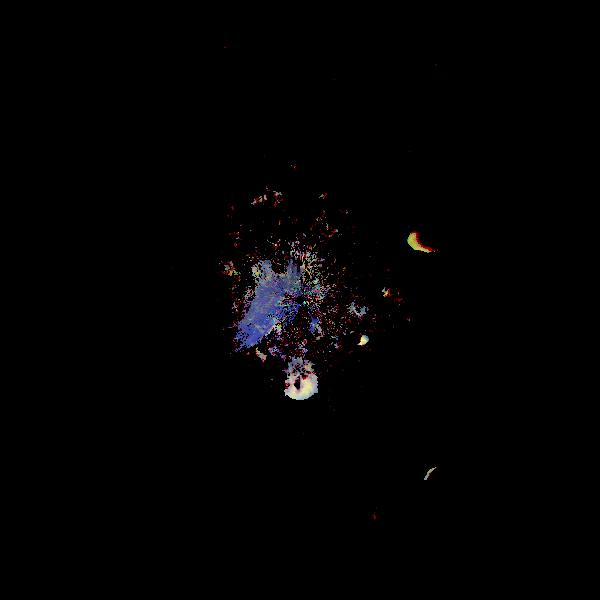roost: (398, 196, 464, 262), (269, 349, 329, 409), (382, 269, 424, 311), (423, 462, 462, 501), (340, 329, 373, 362)
